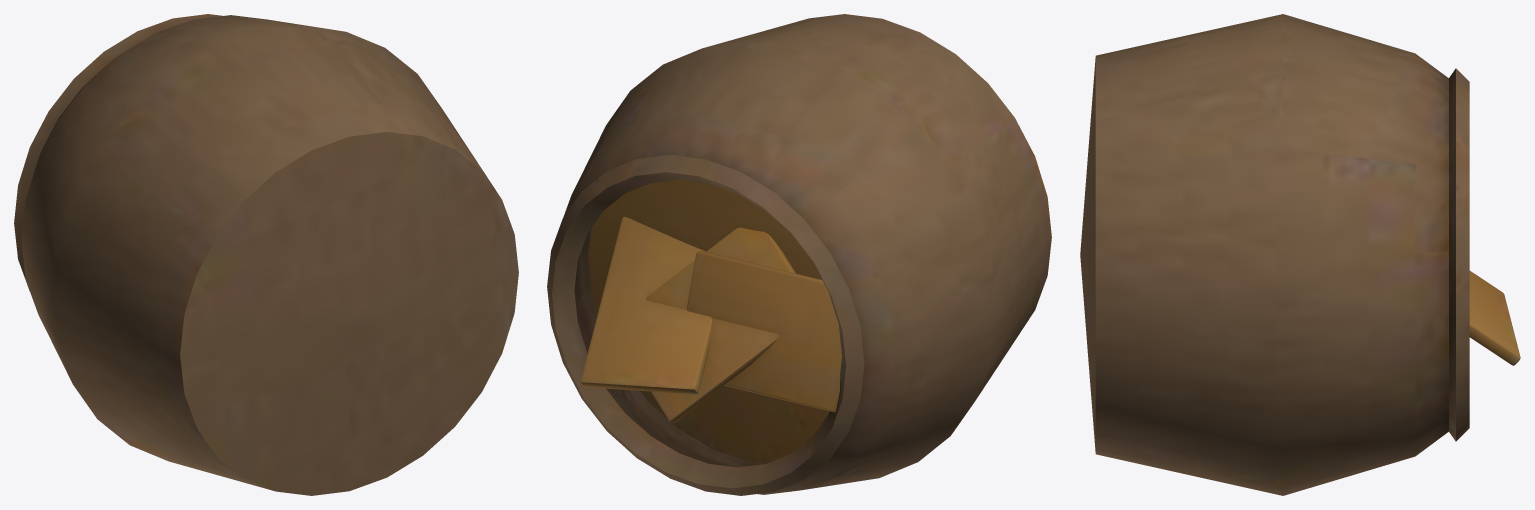
Rendered from fish_glue.glb.
3 renders of one model, left to right at view 1: azimuth 30°, elevation 25°; view 2: azimuth 150°, elevation 25°; view 3: azimuth 270°, elevation 25°, orthographic.
Visible parts, largest first — view 1: fish_glue; view 2: fish_glue; view 3: fish_glue.
Part boxes in pixels (box(x1,y1,x2,y2)): fish_glue: box(14, 14, 518, 495); fish_glue: box(547, 14, 1051, 495); fish_glue: box(1080, 14, 1520, 495).
Size of the model in its own units: 0.075 by 0.075 by 0.0685.
Materials: 1 (1 with a texture image).
